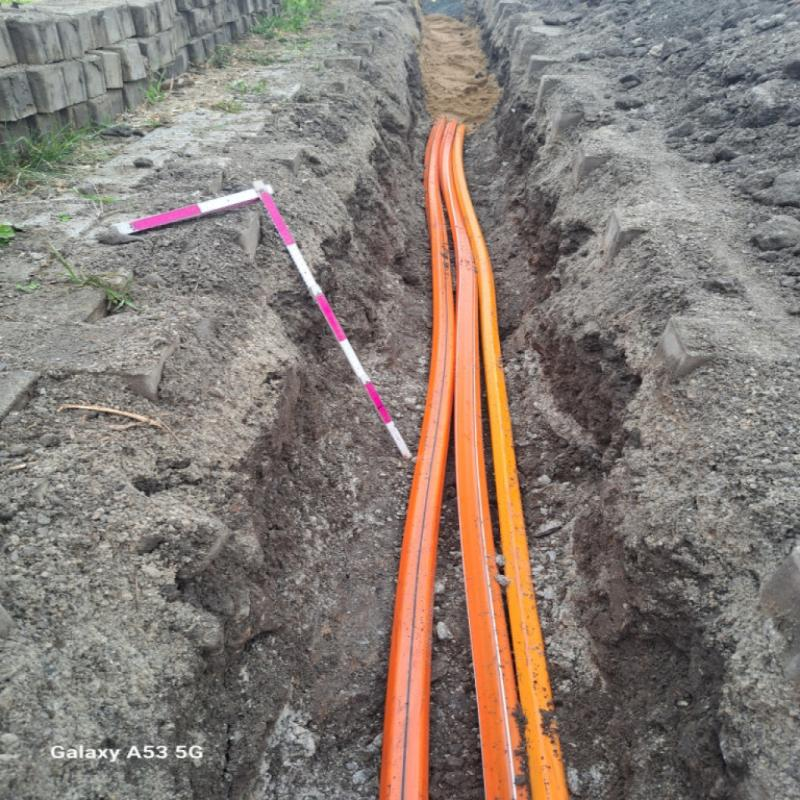Orang-Speednetrohrchen: (380, 120, 567, 800)
